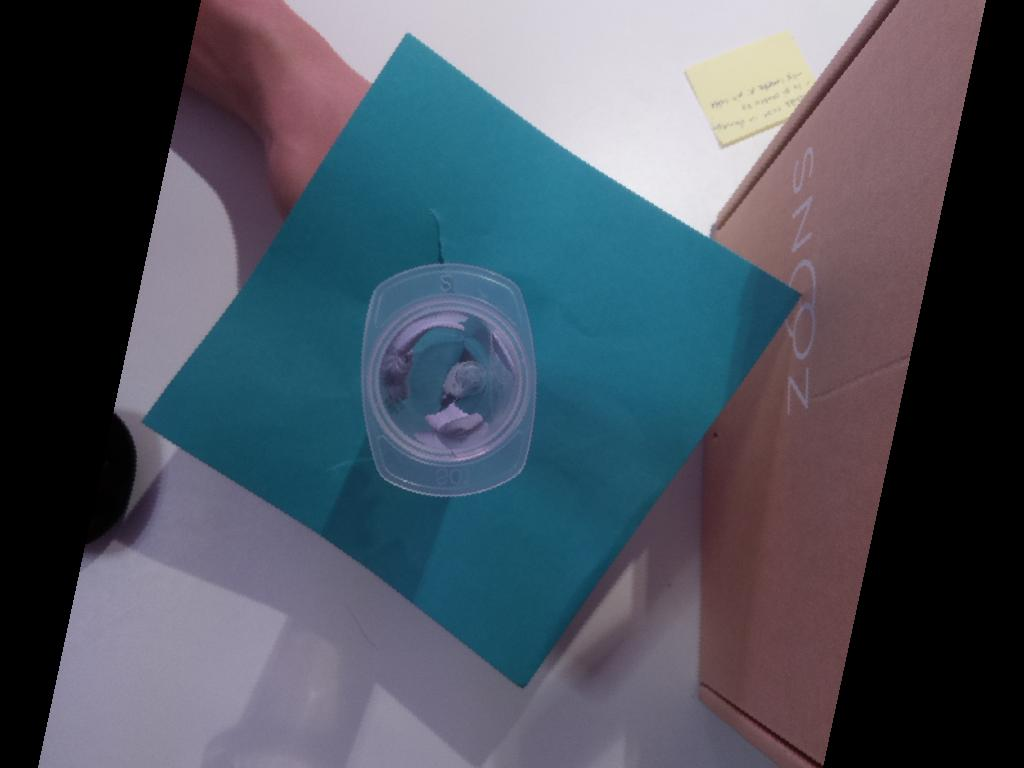dirty: (361, 264, 537, 496)
